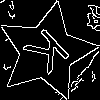K: (21, 26, 78, 83)
